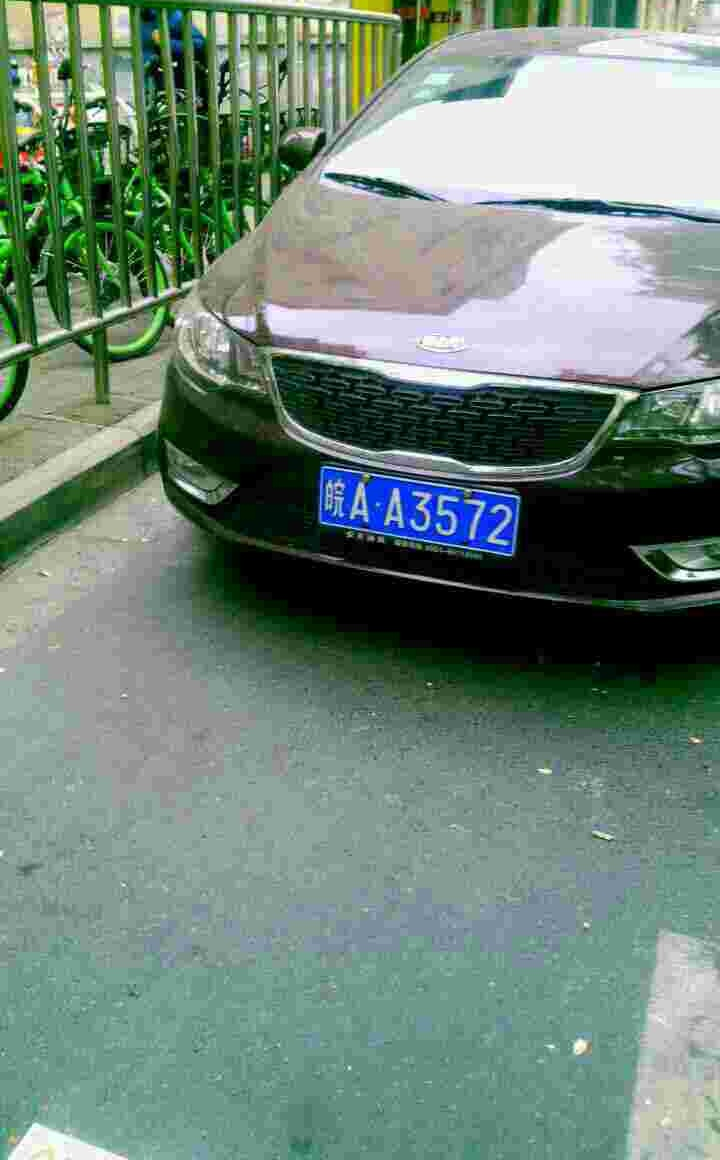car: (319, 457, 519, 564)
